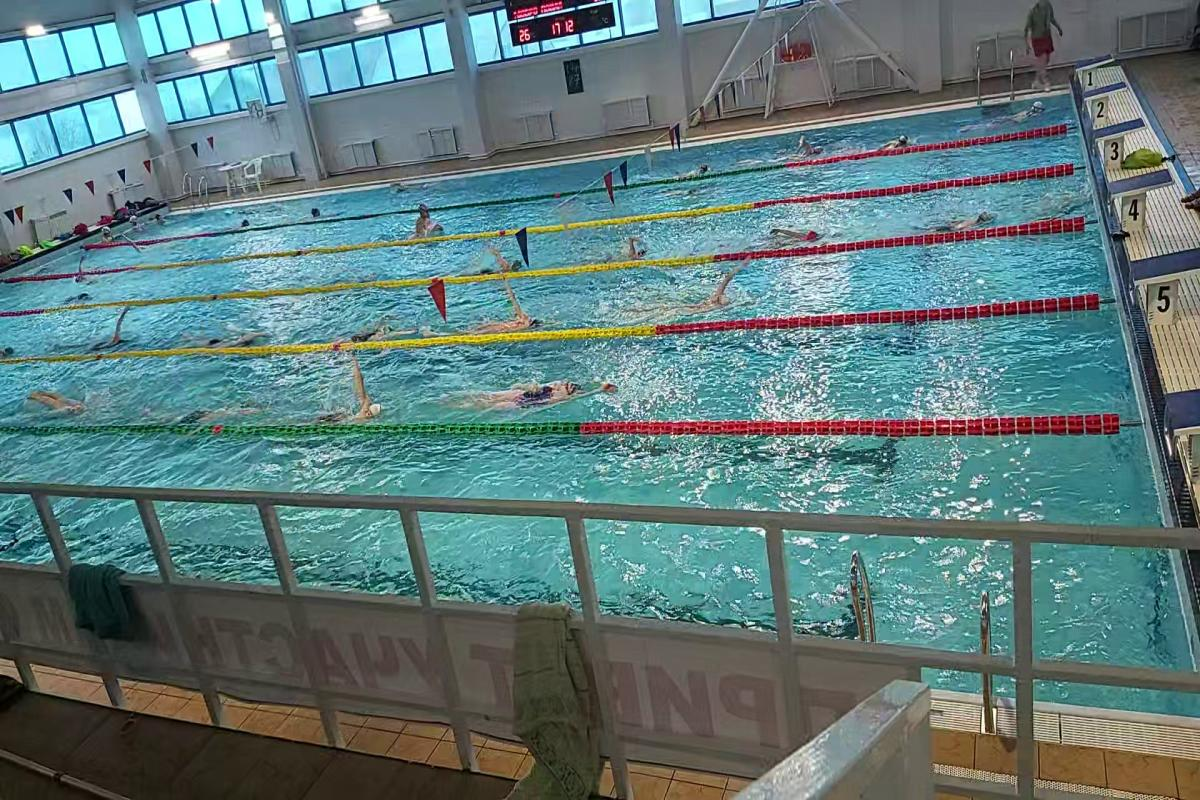swimmer: (464, 369, 623, 414), (307, 366, 385, 420), (21, 380, 110, 422), (460, 296, 556, 332), (917, 202, 1009, 231), (182, 321, 276, 346), (764, 216, 846, 242), (340, 310, 402, 340), (97, 311, 140, 349), (409, 203, 453, 237), (479, 244, 525, 271), (616, 233, 656, 257)
